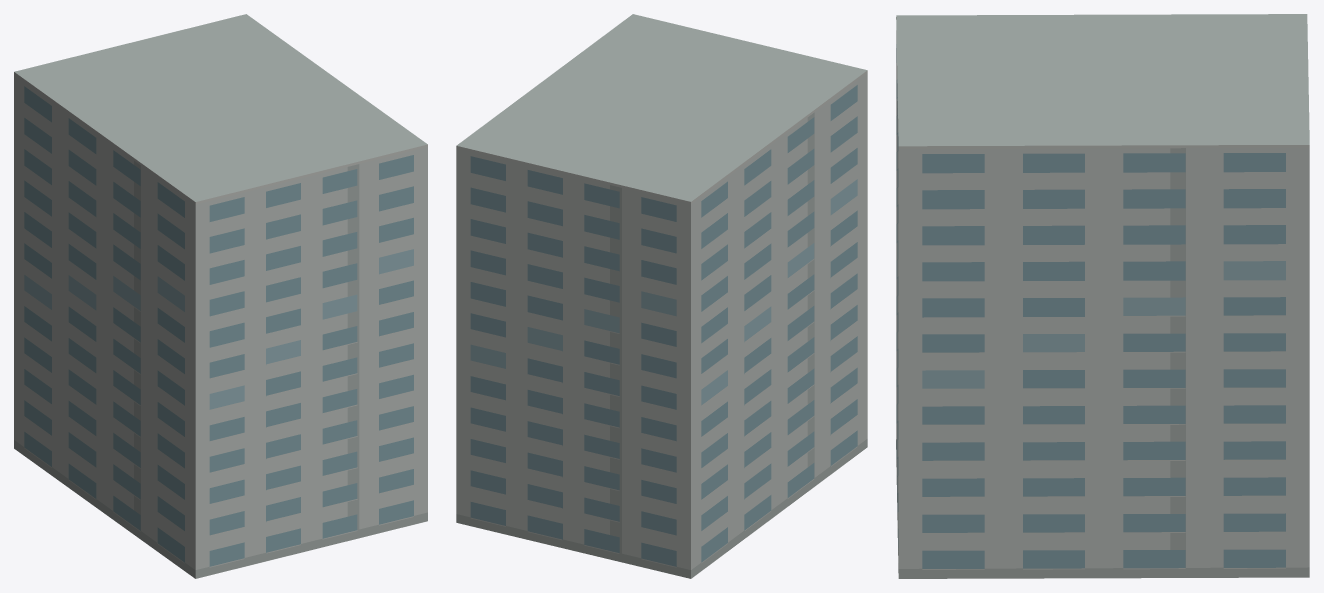
File: residential-a967574e-abd9-442d-956f-0972e46fd692.glb
3 views of the same model, side by side, from view 1: azimuth 30°, elevation 25°; view 2: azimuth 150°, elevation 25°; view 3: azimuth 270°, elevation 25° (orthographic). The views are drawn at different scales.
Visible parts, largest first — view 1: residential-a967574e-abd9-442d-956f-0972e46fd692.tmp; view 2: residential-a967574e-abd9-442d-956f-0972e46fd692.tmp; view 3: residential-a967574e-abd9-442d-956f-0972e46fd692.tmp.
Boxes of the visible parts, x1=… form: residential-a967574e-abd9-442d-956f-0972e46fd692.tmp: x1=14, y1=14, x2=427, y2=578; residential-a967574e-abd9-442d-956f-0972e46fd692.tmp: x1=456, y1=14, x2=867, y2=578; residential-a967574e-abd9-442d-956f-0972e46fd692.tmp: x1=896, y1=14, x2=1309, y2=578.
Bounding box in the file's own units: 24 × 36.6 × 31.72.
